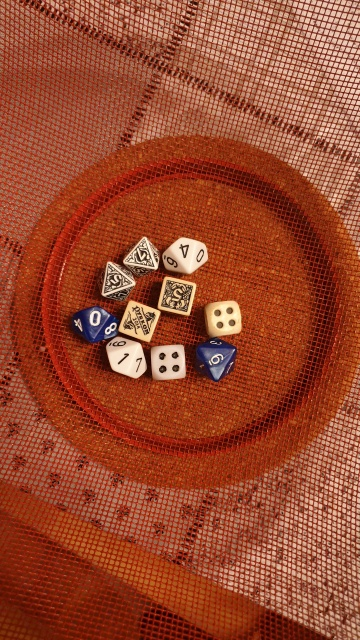d10-1: (102, 334, 147, 383)
d10-10: (63, 304, 121, 343)
d10-4: (161, 235, 213, 276)
d10-6: (195, 334, 240, 384)
d6-4: (206, 300, 243, 338), (149, 345, 188, 381)
d6p-1: (117, 300, 159, 345)
d6p-5: (158, 276, 196, 319)
d8p-5: (96, 258, 133, 300)
d8p-7: (124, 235, 158, 274)
